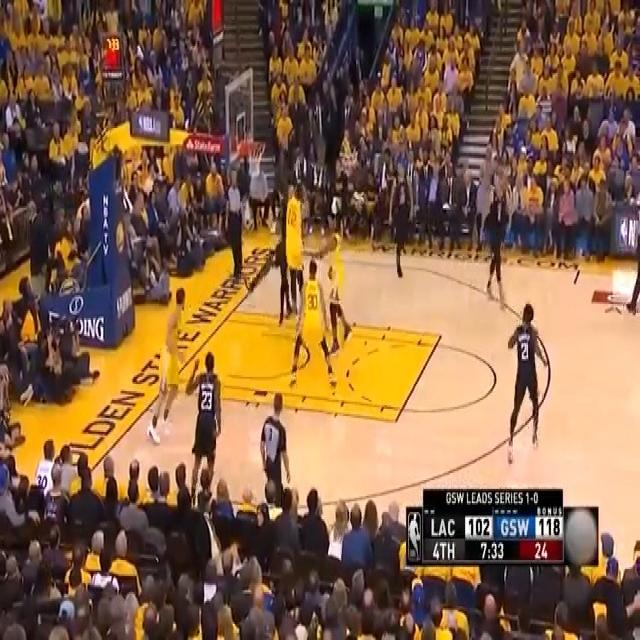hoop: (239, 136, 267, 182)
